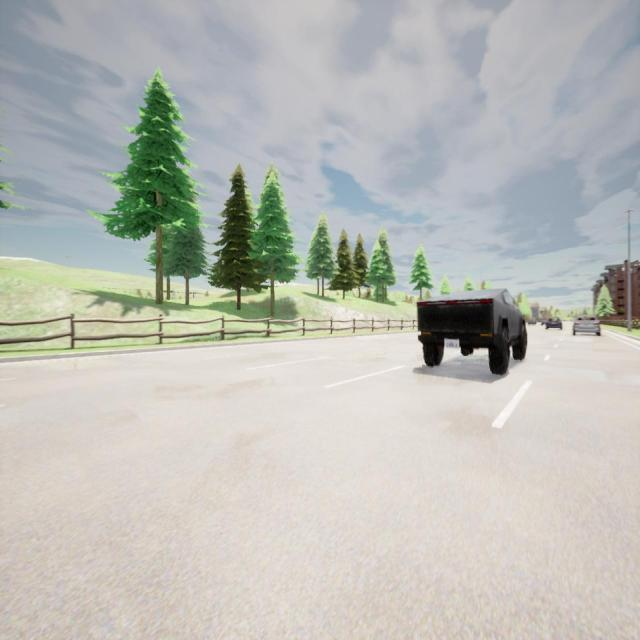Vehicle: (418, 289, 526, 375), (572, 314, 602, 336), (545, 316, 562, 330), (527, 316, 537, 325), (540, 320, 544, 326)
